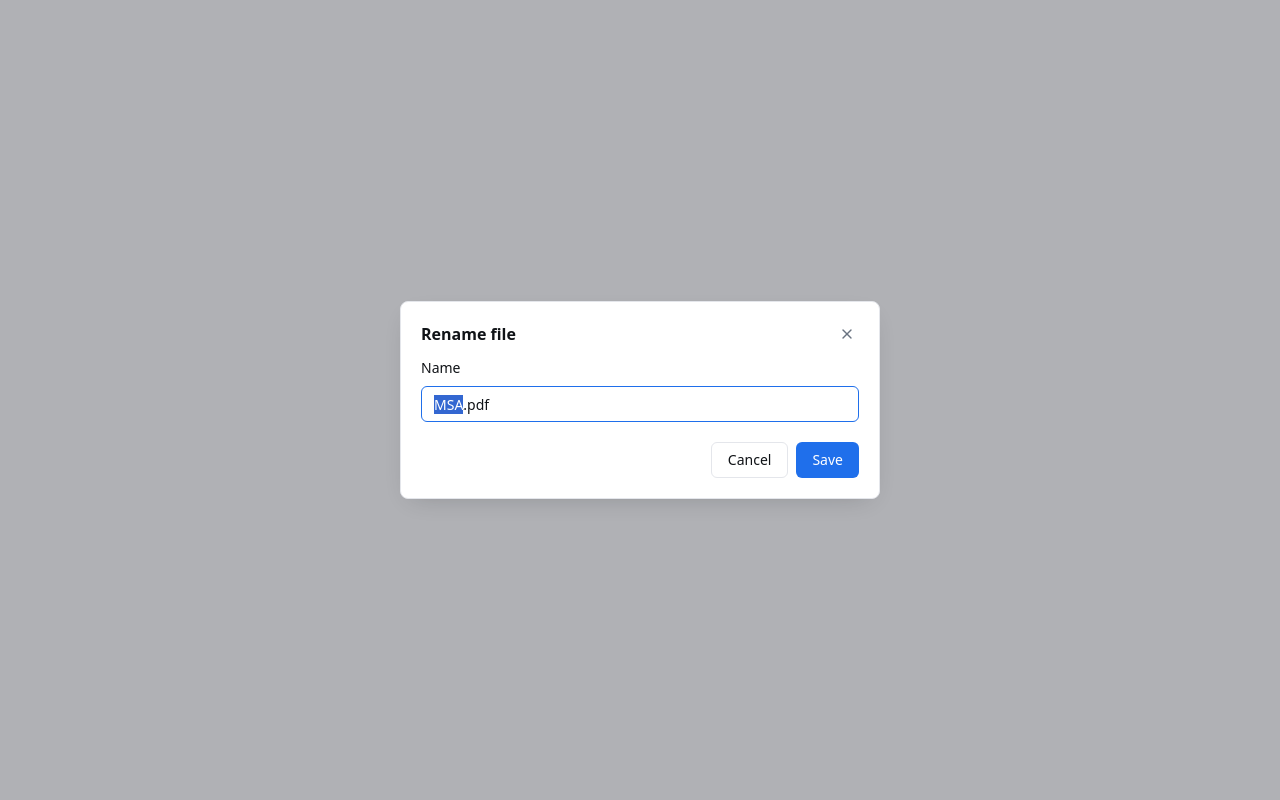
Scenario: RenameDialog › rejects a slash before sending anything
Replace the text in the field labelled "Name" with "a/b.pdf": [640, 404] box [421,386,859,422]
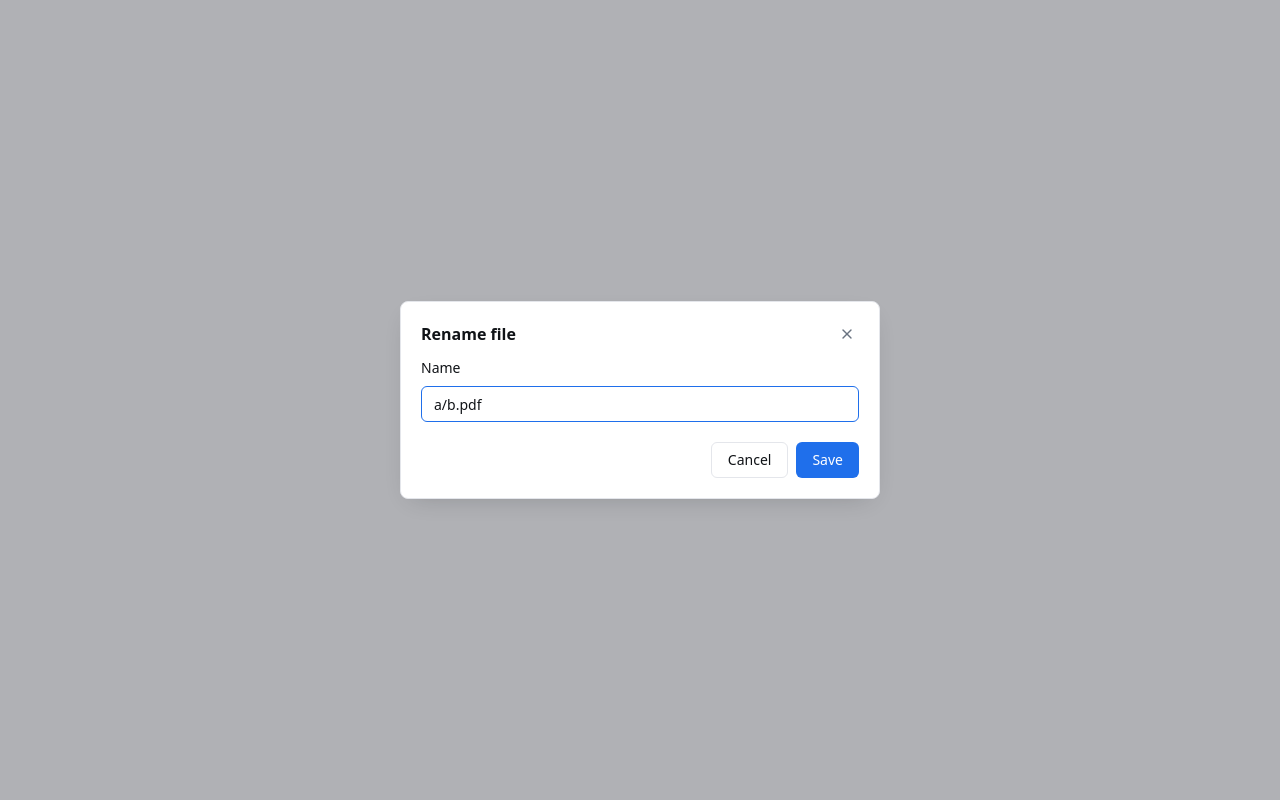
Click the button "Save": [828, 460] box [796,442,859,478]
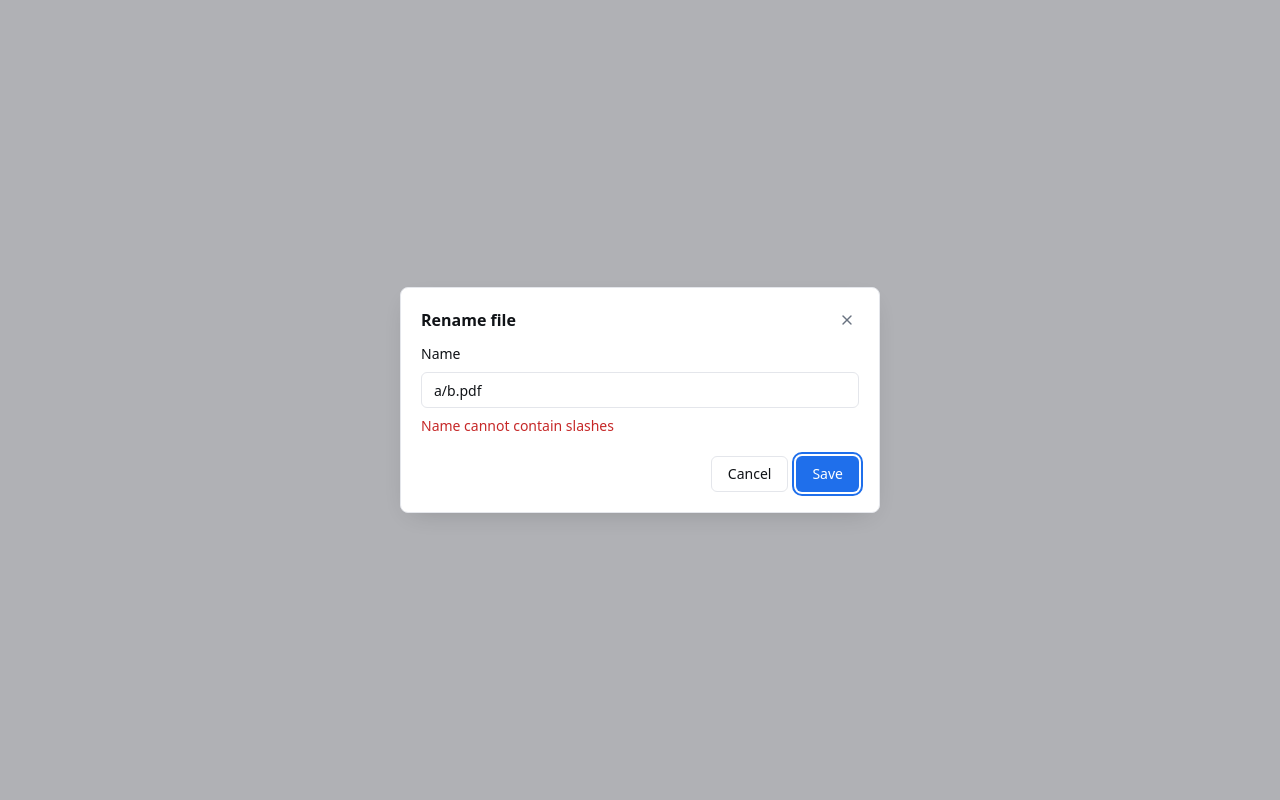
Now the message shows "cannot contain", box [421,416,614,435]
